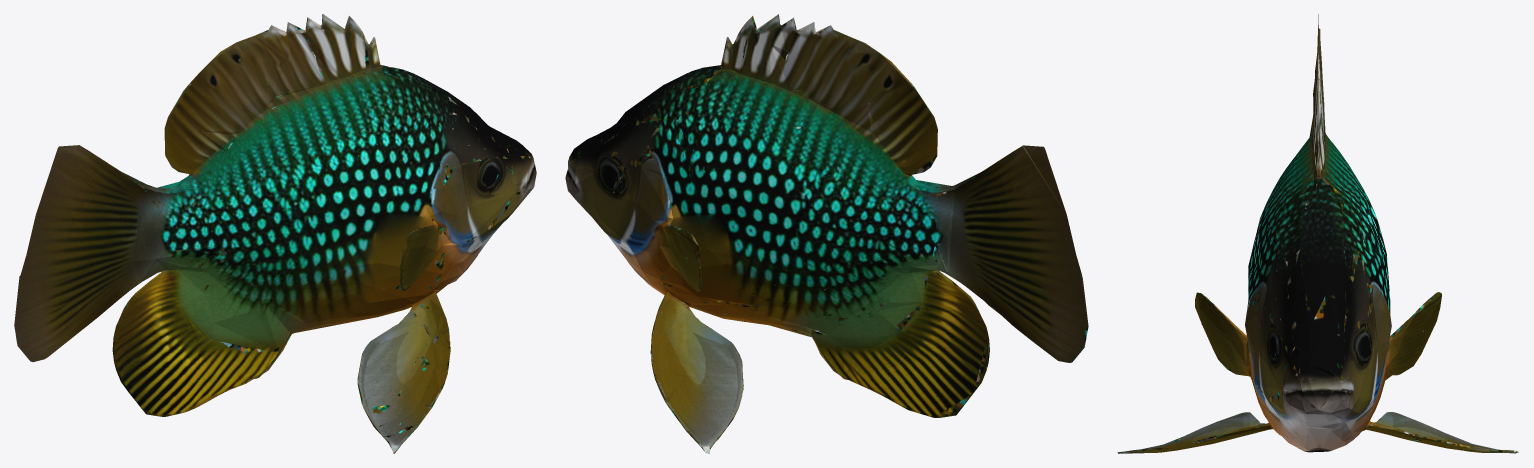
File: fish_0047_smpl23_resized.glb
3 views of the same model, side by side, from view 1: azimuth 30°, elevation 25°; view 2: azimuth 150°, elevation 25°; view 3: azimuth 270°, elevation 25° (orthographic). The views are drawn at different scales.
Parts seen in each view (by area): view 1: world; view 2: world; view 3: world.
Boxes of the visible parts, box(x1,y1,x2,y2) form: world: box(14, 14, 536, 453); world: box(565, 14, 1088, 453); world: box(1117, 14, 1518, 453).
Bounding box in the file's own units: 1.99 × 1.35 × 1.27.
Materials: 1 (1 with a texture image).
